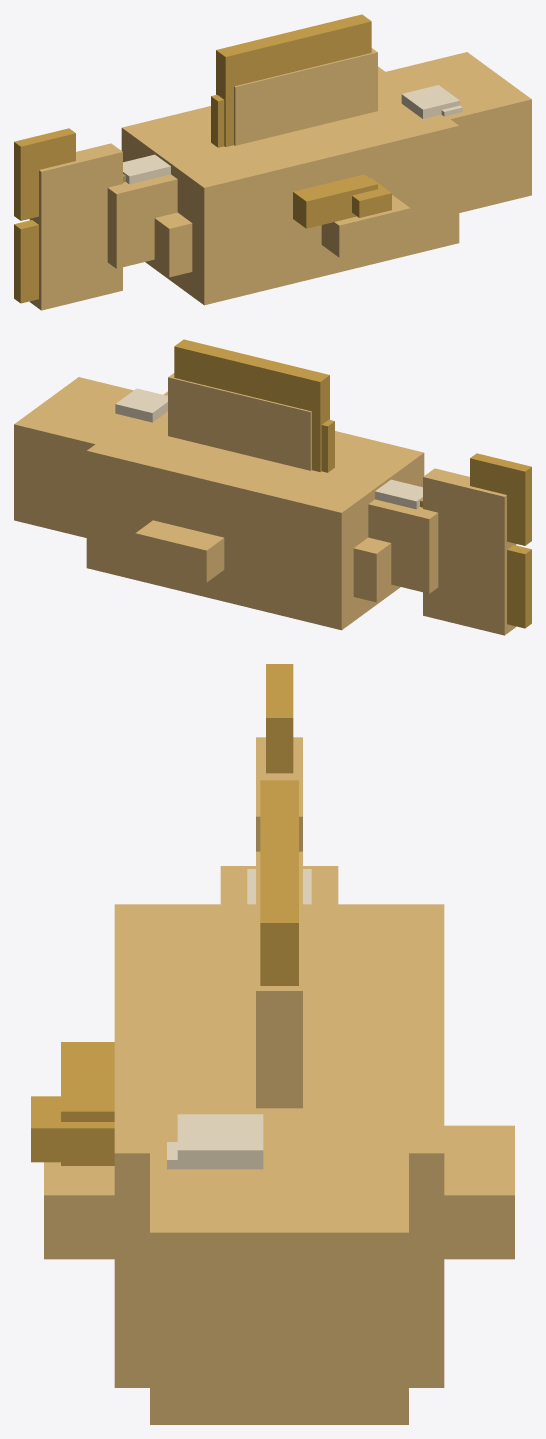
File: fish_lantern_pike.glb
3 renders of one model, top to bottom at view 1: azimuth 30°, elevation 25°; view 2: azimuth 150°, elevation 25°; view 3: azimuth 270°, elevation 25°, orthographic. The views are drawn at different scales.
Parts seen in each view (by area): view 1: FishArt_body, FishArt_dorsal, FishArt_tail, FishArt_pectoral, FishArt_eye, FishArt_specialty; view 2: FishArt_body, FishArt_dorsal, FishArt_tail, FishArt_eye, FishArt_specialty; view 3: FishArt_body, FishArt_pectoral, FishArt_dorsal, FishArt_eye, FishArt_tail.
Boxes of the visible parts, left/top/right/bottom form: FishArt_body: left=29, top=48, right=531, bottom=310; FishArt_dorsal: left=211, top=14, right=371, bottom=147; FishArt_tail: left=14, top=128, right=125, bottom=303; FishArt_pectoral: left=293, top=174, right=391, bottom=228; FishArt_eye: left=401, top=85, right=462, bottom=118; FishArt_specialty: left=123, top=154, right=170, bottom=184; FishArt_body: left=14, top=373, right=516, bottom=635; FishArt_dorsal: left=174, top=339, right=334, bottom=472; FishArt_tail: left=420, top=453, right=531, bottom=628; FishArt_eye: left=115, top=388, right=167, bottom=422; FishArt_specialty: left=375, top=479, right=422, bottom=509; FishArt_body: left=44, top=737, right=514, bottom=1424; FishArt_pectoral: left=31, top=1042, right=114, bottom=1165; FishArt_dorsal: left=260, top=780, right=298, bottom=985; FishArt_eye: left=167, top=1114, right=263, bottom=1169; FishArt_tail: left=266, top=664, right=293, bottom=773.
Bounding box in the file's own units: 0.3117 × 0.1282 × 0.1355.
